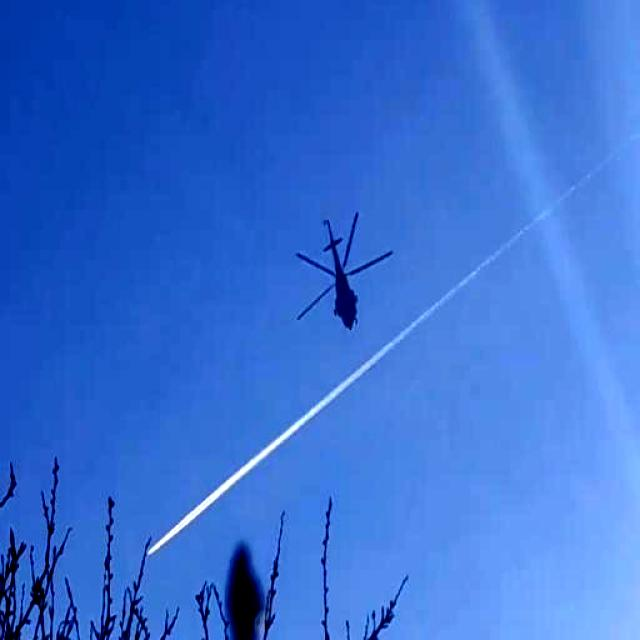drone: (291, 202, 394, 339)
